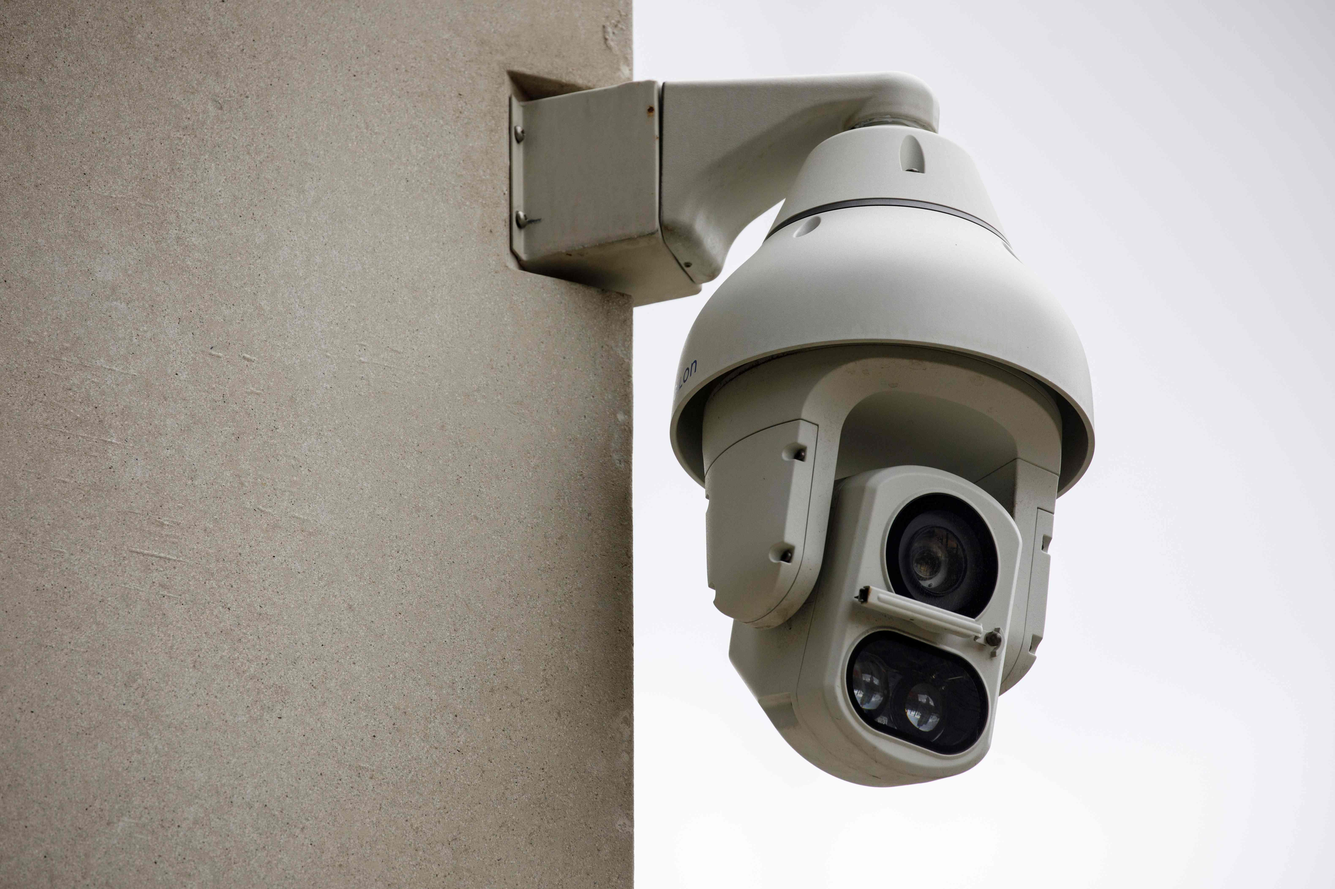CCTV: (657, 202, 1138, 858)
